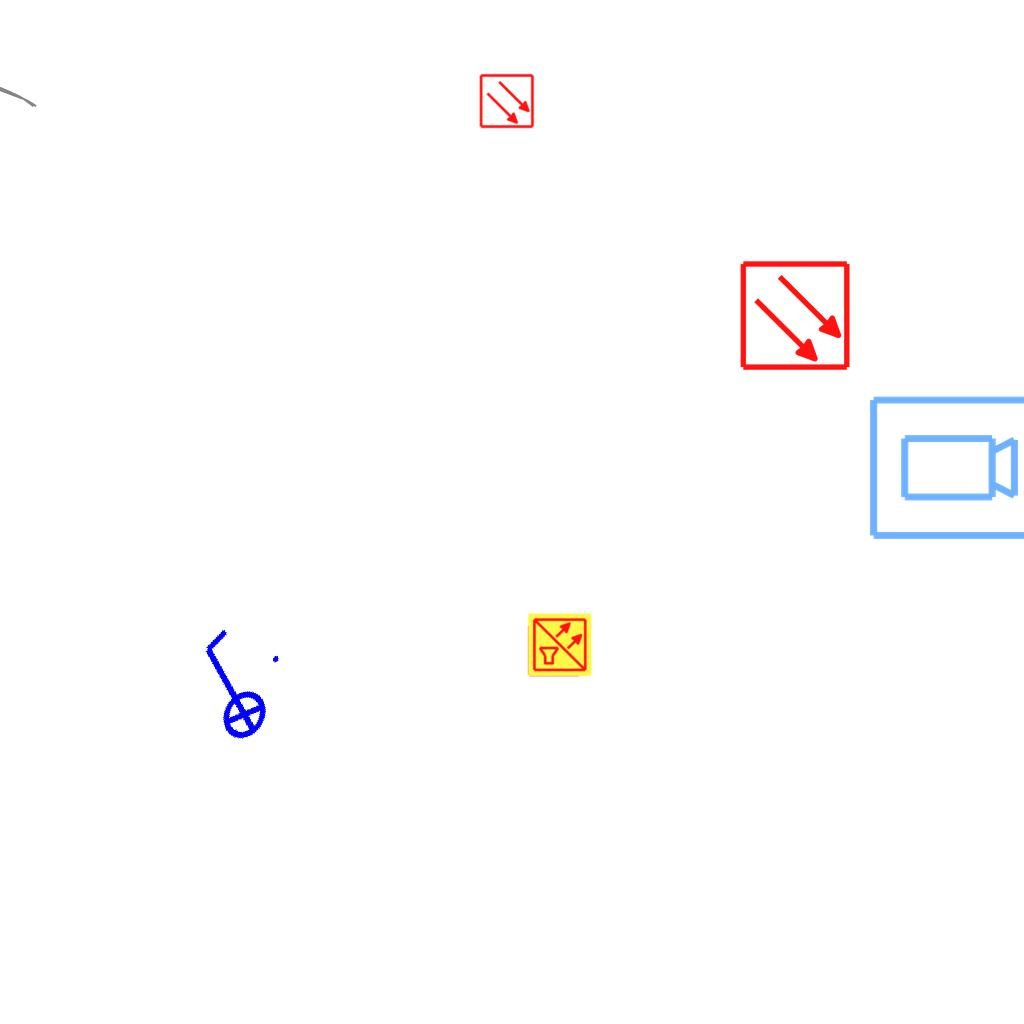Ausschalter_beleuchtet: (160, 614, 300, 760)
KFO_Kamera_mit_Festobjektiv: (865, 392, 1024, 546)
OKW_Multisensormelder_(Kombination_optischer_Rauch-Kahlenmonoxid_Waerme-Melder): (527, 612, 593, 678)
RMO_Rauchmelder_optischer: (739, 259, 852, 372), (479, 73, 535, 129)
